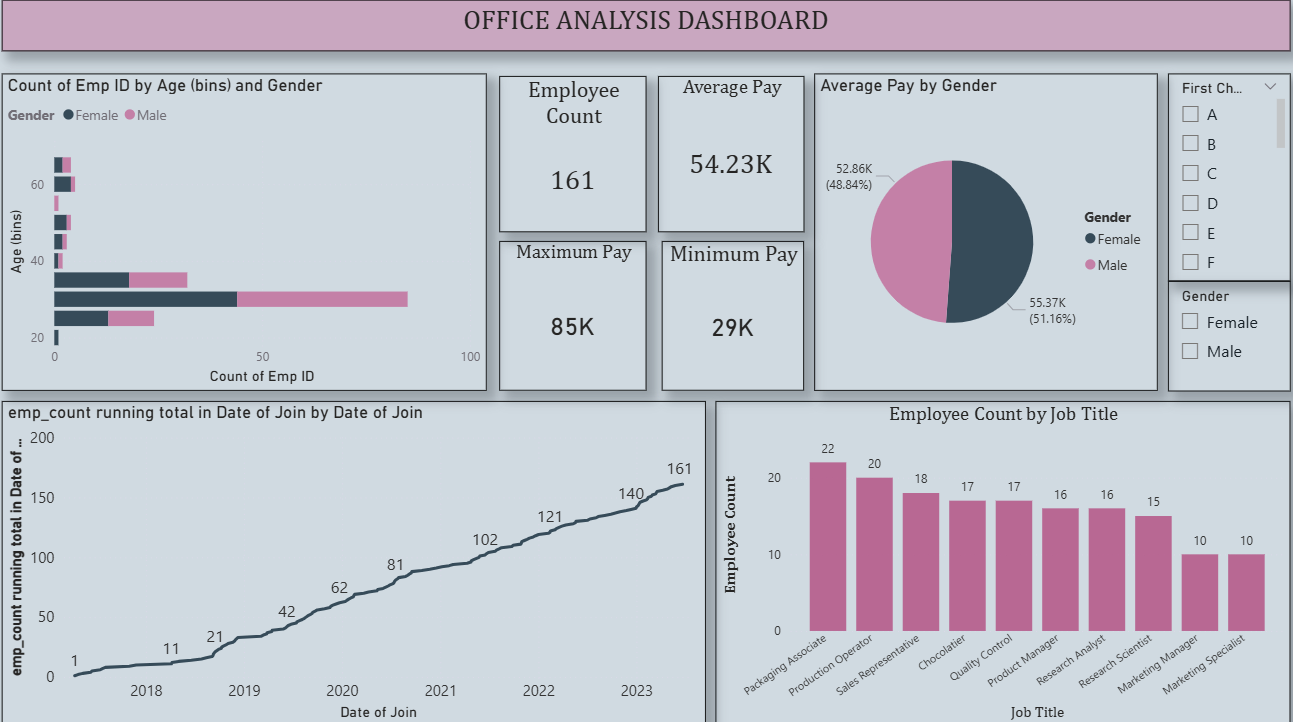

What the dashboard file says about the page in this screenshot:
{"tool":"powerbi","page":{"name":"DASHBOARD","canvas":[1280,720],"ordinal":7},"visuals":[{"type":"card","title":"Employee Count","fields":{"Values":["data.emp_count"]},"box":[495.2,83.2,144.3,152.9],"z":0},{"type":"clusteredColumnChart","title":"Employee Count by Job Title","fields":{"Category":["data.Job Title"],"Y":["data.emp_count"]},"box":[706.8,401.1,562.5,319.2],"z":1000},{"type":"slicer","fields":{"Values":["data.Gender"]},"box":[1149.5,283.7,119.8,107.6],"z":2000},{"type":"slicer","fields":{"Values":["data.First Characters"]},"box":[1149.5,80.7,119.8,203],"z":3000},{"type":"card","title":"Average Pay","fields":{"Values":["data.avgpay"]},"box":[650.5,83.2,143.1,152.9],"z":4000},{"type":"card","title":"Maximum Pay","fields":{"Values":["data.Maxpay"]},"box":[495.2,244.6,144.3,146.7],"z":5000},{"type":"card","title":"Minimum Pay","fields":{"Values":["data.minpay"]},"box":[654.2,244.6,139.4,146.7],"z":6000},{"type":"lineChart","fields":{"Y":["data.emp_count running total in Date of Join"],"Category":["data.Date of Join"]},"box":[8.6,401.1,688.5,319.2],"z":7000},{"type":"textbox","box":[8.6,8.6,1260.7,50.1],"z":8000},{"type":"barChart","fields":{"Category":["data.Age (bins)"],"Y":["CountNonNull(data.Emp ID)"],"Series":["data.Gender"]},"box":[8.6,80.7,474.5,310.6],"z":9000},{"type":"pieChart","title":"Average Pay by Gender","fields":{"Category":["data.Gender"],"Y":["data.avgpay"]},"box":[803.4,80.7,336.3,310.6],"z":10000}]}

Visuals, with their boxes in screenshot pixels (x1, y1, x2, y2), scaled from the page's 1280x720 canvas onto the 1293x722 screenshot:
"Employee Count" card: <region>500, 83, 646, 237</region>
"Employee Count by Job Title" clusteredColumnChart: <region>714, 402, 1282, 721</region>
slicer - data.Gender: <region>1161, 284, 1282, 392</region>
slicer - data.First Characters: <region>1161, 81, 1282, 284</region>
"Average Pay" card: <region>657, 83, 802, 237</region>
"Maximum Pay" card: <region>500, 245, 646, 392</region>
"Minimum Pay" card: <region>661, 245, 802, 392</region>
lineChart - data.emp_count running total in Date of Join x data.Date of Join: <region>9, 402, 704, 721</region>
textbox: <region>9, 9, 1282, 59</region>
barChart - data.Age (bins) x CountNonNull(data.Emp ID): <region>9, 81, 488, 392</region>
"Average Pay by Gender" pieChart: <region>812, 81, 1151, 392</region>
